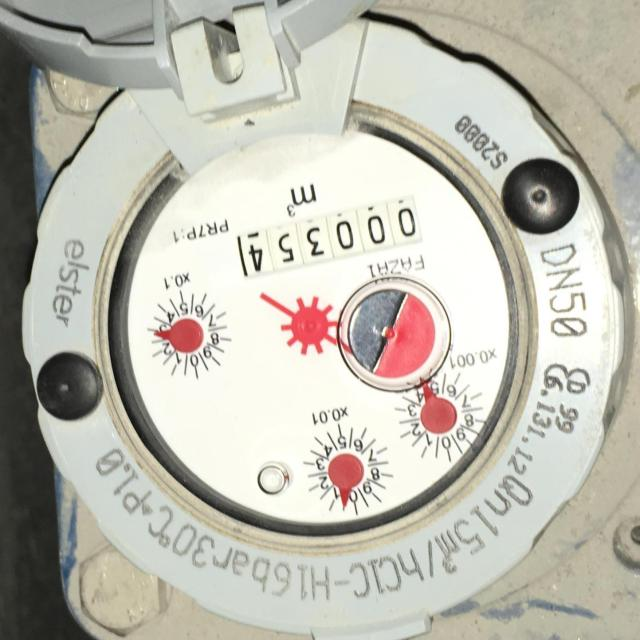gaz_meter: (122, 123, 516, 528)
indication: (235, 196, 426, 280)
